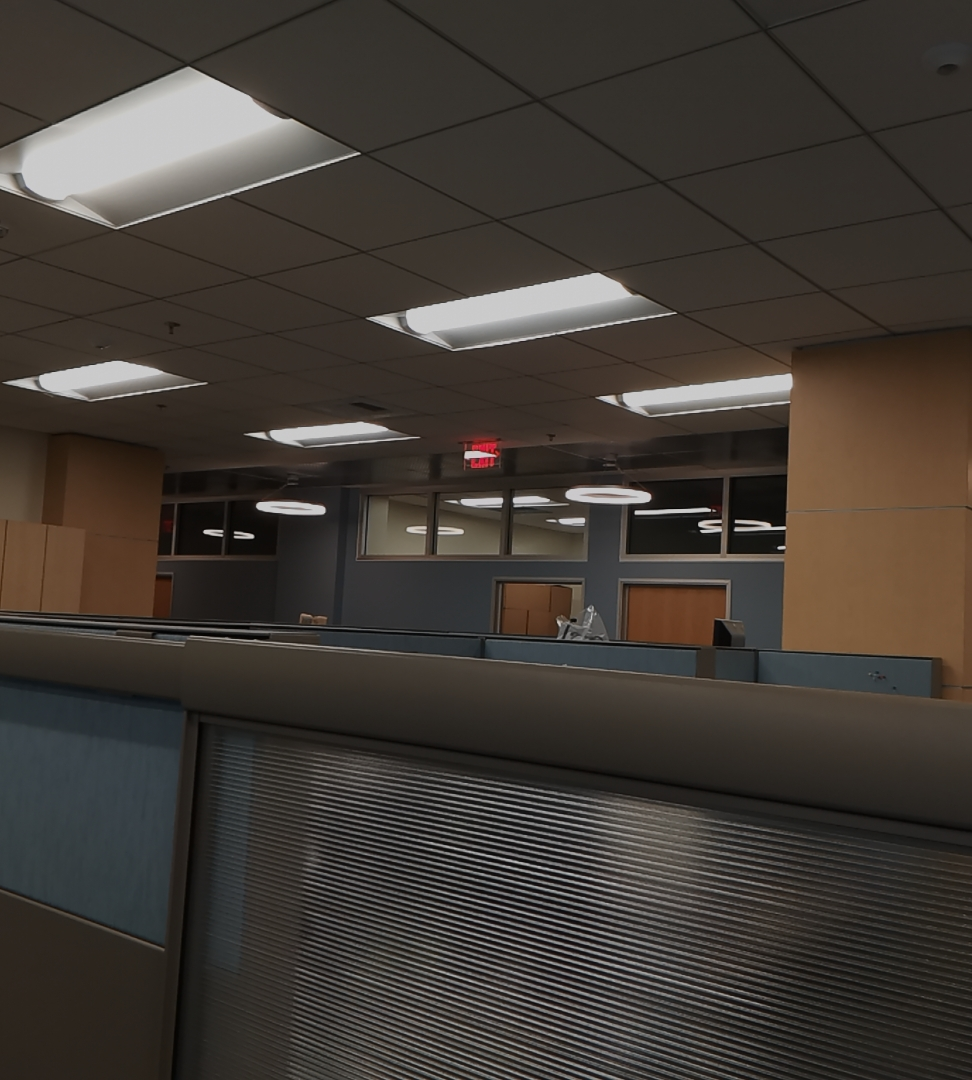emergency_exit: (461, 438, 501, 472)
